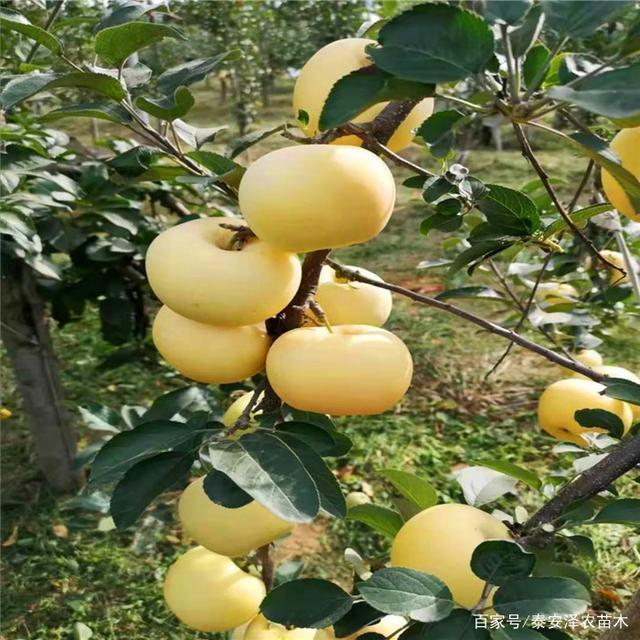apple: (238, 140, 396, 256), (142, 218, 305, 326), (268, 324, 415, 418), (387, 502, 515, 602), (175, 470, 297, 557), (163, 546, 265, 634), (536, 375, 632, 454)
